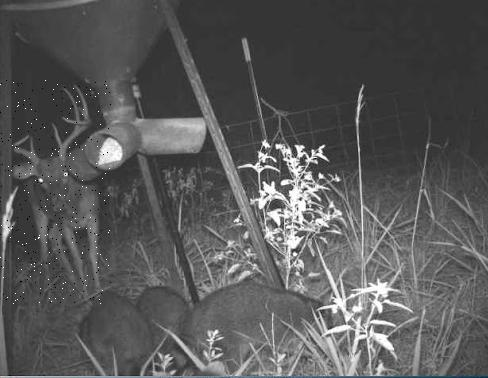Deer: (0, 80, 111, 304)
